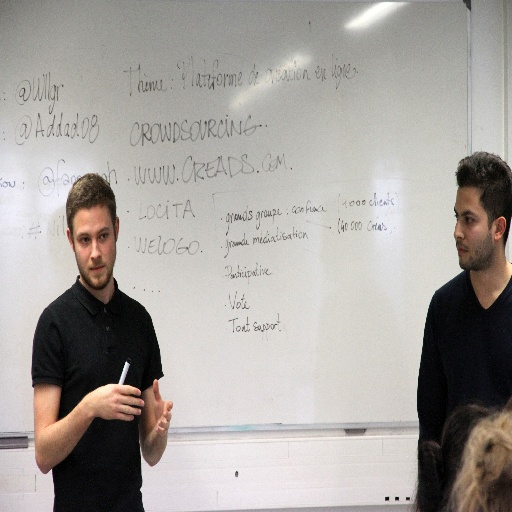hand: (90, 382, 145, 422), (151, 379, 173, 437)
